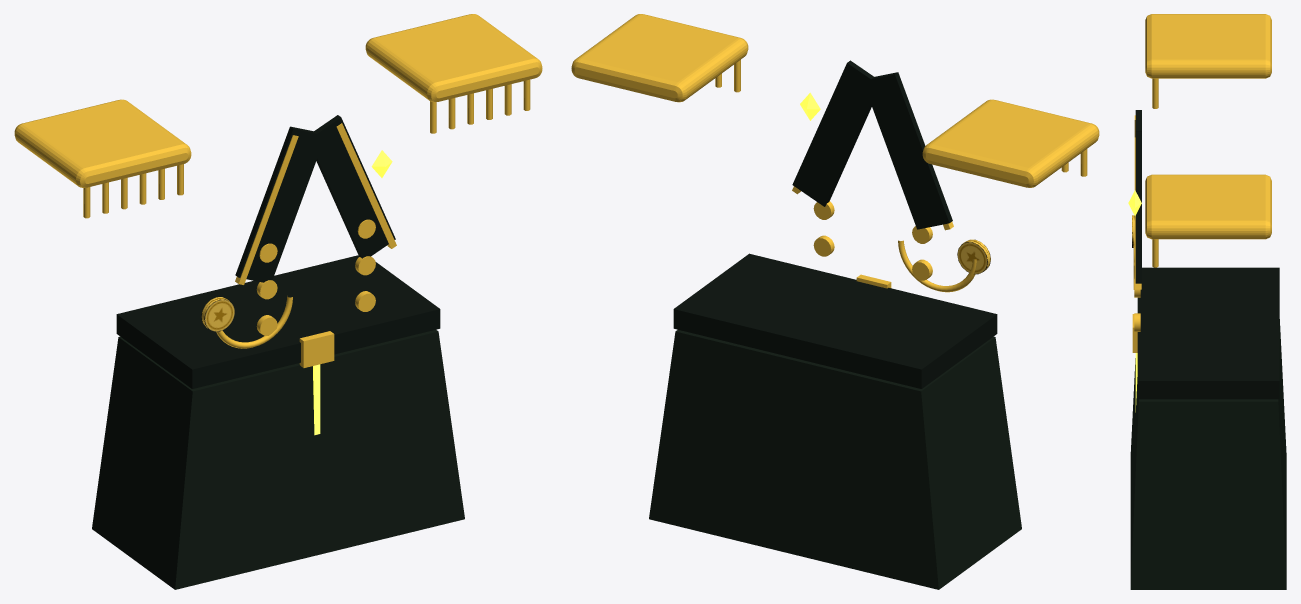
The model's file is eqf_eqtz4.glb.
3 views of the same model, side by side, from view 1: azimuth 30°, elevation 25°; view 2: azimuth 150°, elevation 25°; view 3: azimuth 270°, elevation 25° (orthographic). The views are drawn at different scales.
Bounding box in the file's own units: 3.98 × 3.53 × 1.25.
Materials: 7 (1 with a texture image).
